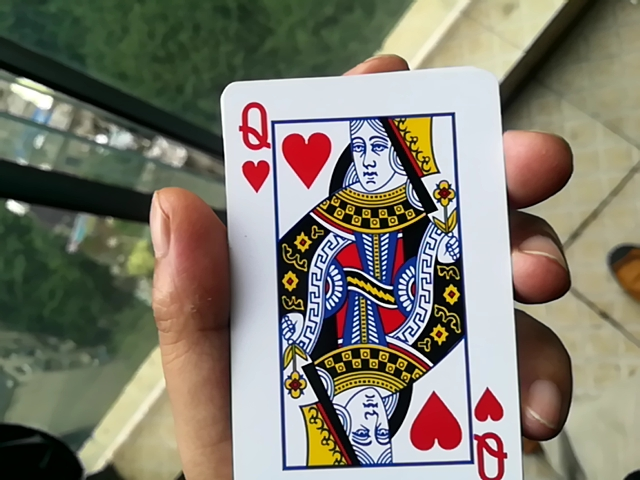hx q: (201, 61, 531, 478)
